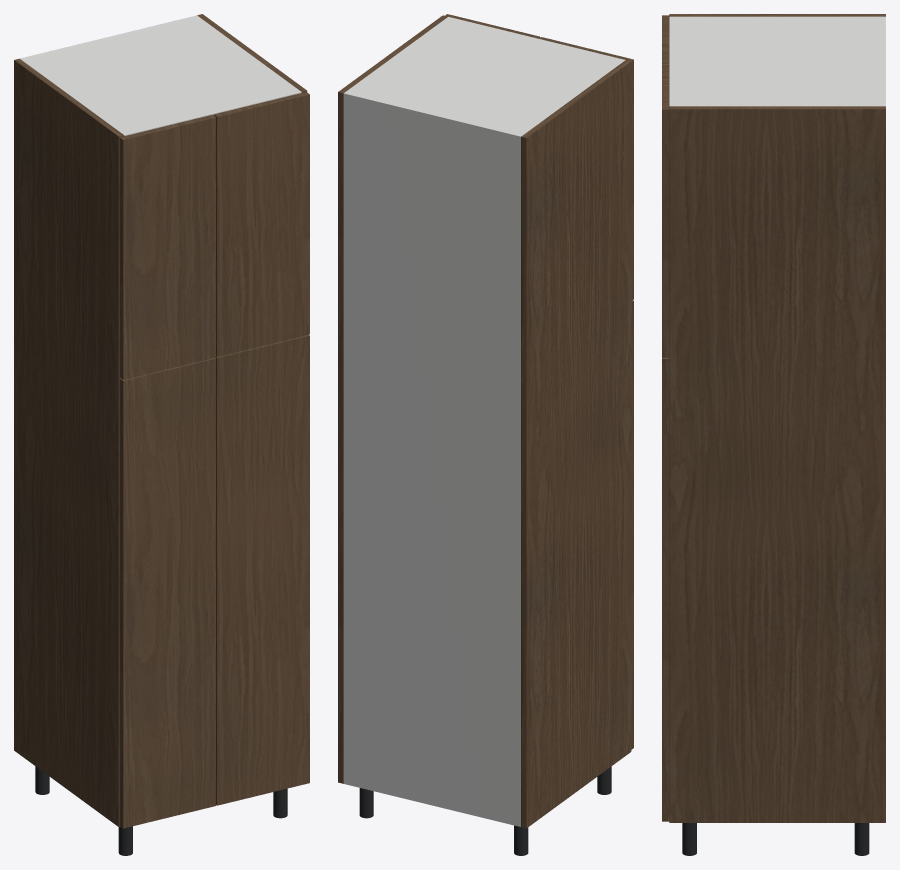
The model's file is oppein-pb-mso-pc2484.glb.
3 renders of one model, left to right at view 1: azimuth 30°, elevation 25°; view 2: azimuth 150°, elevation 25°; view 3: azimuth 270°, elevation 25°, orthographic. The views are drawn at different scales.
Parts seen in each view (by area): view 1: Cabinet side, Door, Door.001, Door.002, Door.003, Cabinet top, Cabinet side.001; view 2: Cabinet back, Cabinet side, Cabinet top, Cabinet side.001, Door, Door.002; view 3: Cabinet side.001, Cabinet top, Door.001, Door.003, Cabinet side, Adjustable foot.002, Adjustable foot.003, Cabinet back.
Part boxes in pixels (left/top/right/bottom): Cabinet side: left=14, top=58, right=124, bottom=826; Door: left=119, top=357, right=215, bottom=828; Door.001: left=215, top=334, right=309, bottom=805; Door.002: left=119, top=114, right=215, bottom=379; Door.003: left=213, top=92, right=309, bottom=356; Cabinet top: left=22, top=17, right=301, bottom=135; Cabinet side.001: left=197, top=14, right=307, bottom=92; Cabinet back: left=343, top=92, right=522, bottom=826; Cabinet side: left=521, top=60, right=631, bottom=828; Cabinet top: left=344, top=17, right=625, bottom=141; Cabinet side.001: left=338, top=15, right=447, bottom=783; Door: left=631, top=300, right=633, bottom=749; Door.002: left=539, top=37, right=633, bottom=300; Cabinet side.001: left=669, top=106, right=885, bottom=822; Cabinet top: left=669, top=16, right=881, bottom=106; Door.001: left=662, top=357, right=669, bottom=821; Door.003: left=662, top=62, right=669, bottom=357; Cabinet side: left=669, top=14, right=885, bottom=16; Adjustable foot.002: left=854, top=823, right=869, bottom=855; Adjustable foot.003: left=682, top=823, right=696, bottom=855; Cabinet back: left=881, top=16, right=885, bottom=106.
Bounding box in the file's own units: 0.6096 × 2.25 × 0.6064.
Materials: 3 (1 with a texture image).
